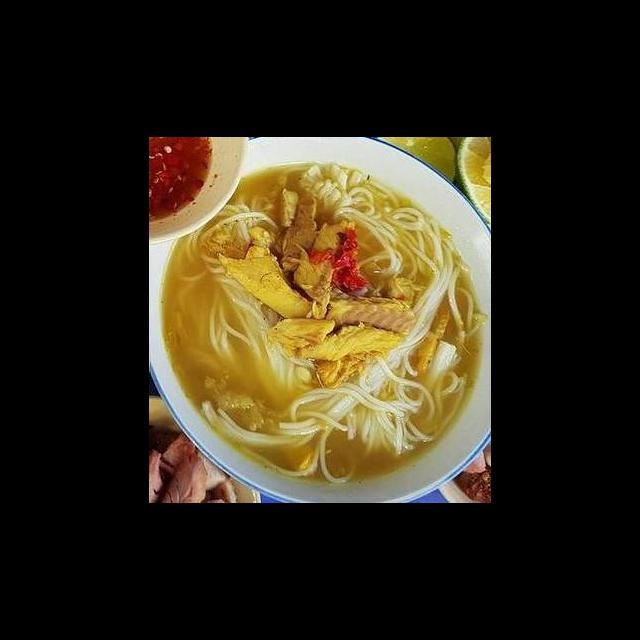bun: (194, 346, 482, 485), (301, 155, 488, 306)
bun ca: (164, 173, 490, 499)
ca: (215, 222, 327, 325), (323, 288, 423, 339), (264, 312, 339, 359)
